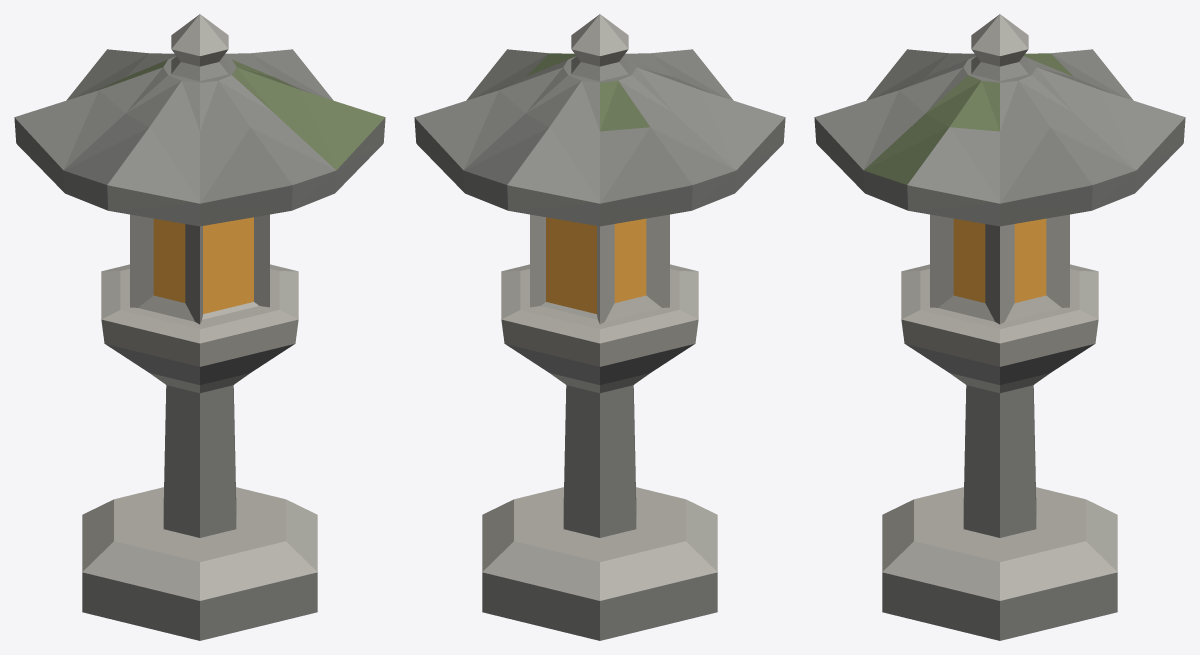
Rendered from lantern_stone.fbx.
3 renders of one model, left to right at view 1: azimuth 30°, elevation 25°; view 2: azimuth 150°, elevation 25°; view 3: azimuth 270°, elevation 25°, orthographic.
Parts seen in each view (by area): view 1: lantern_stone; view 2: lantern_stone; view 3: lantern_stone.
Part boxes in pixels (x1,y1,x2,y2): lantern_stone: (14, 14, 385, 640); lantern_stone: (414, 14, 785, 640); lantern_stone: (814, 14, 1185, 640).
Size of the model in its own units: 0.8747 by 1.71 by 1.01.
